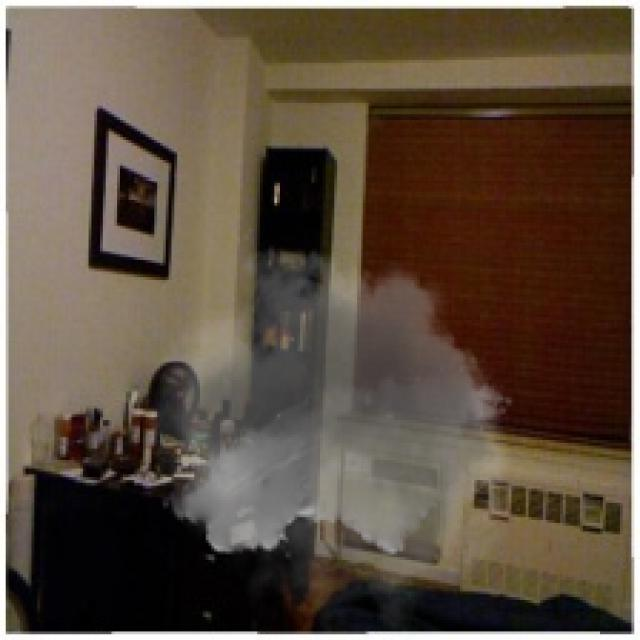smoke: (148, 229, 526, 637)
